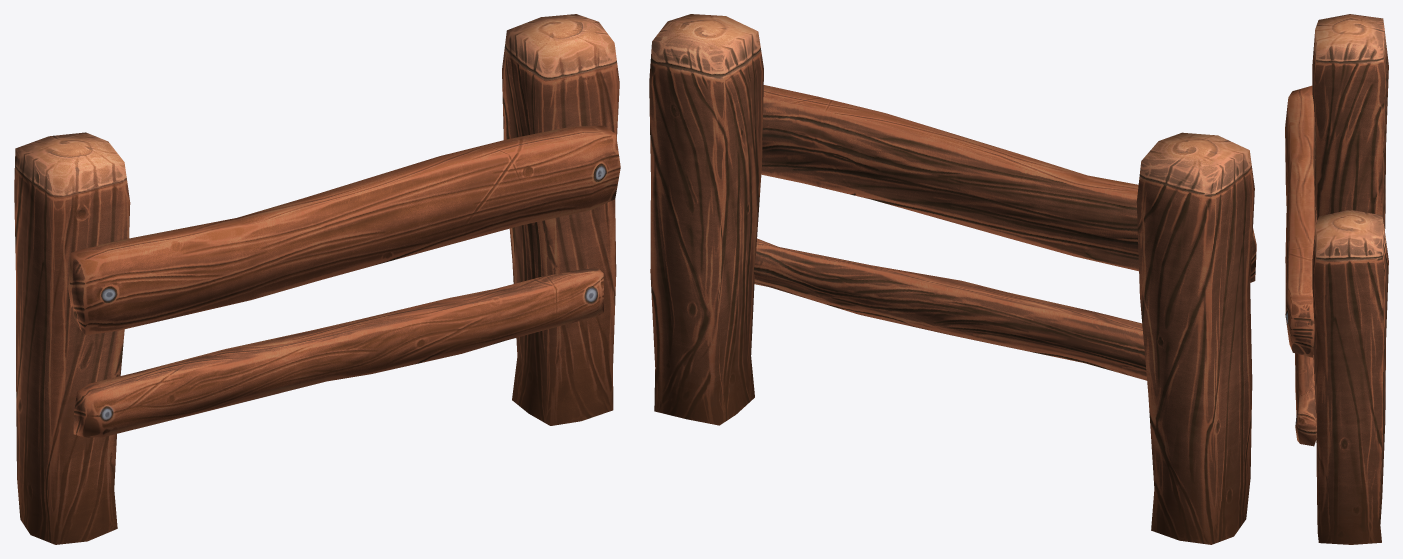
File: fence1.obj
3 renders of one model, left to right at view 1: azimuth 30°, elevation 25°; view 2: azimuth 150°, elevation 25°; view 3: azimuth 270°, elevation 25°, orthographic. The views are drawn at different scales.
Parts seen in each view (by area): view 1: STFence1_Cubo.007; view 2: STFence1_Cubo.007; view 3: STFence1_Cubo.007.
Boxes of the visible parts, x1,y1,x2,y2 form: STFence1_Cubo.007: (14, 14, 620, 544); STFence1_Cubo.007: (649, 14, 1256, 544); STFence1_Cubo.007: (1285, 14, 1388, 544).
Size of the model in its own units: 1.51 by 0.9707 by 0.2929.
